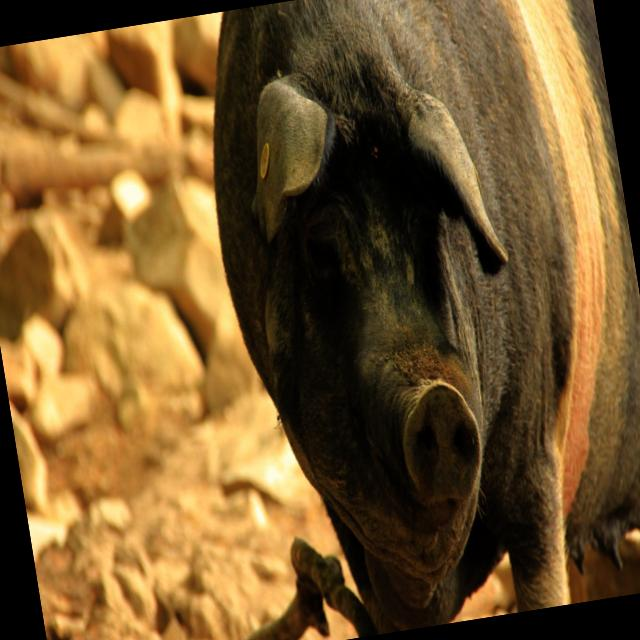pig: (214, 0, 640, 635)
